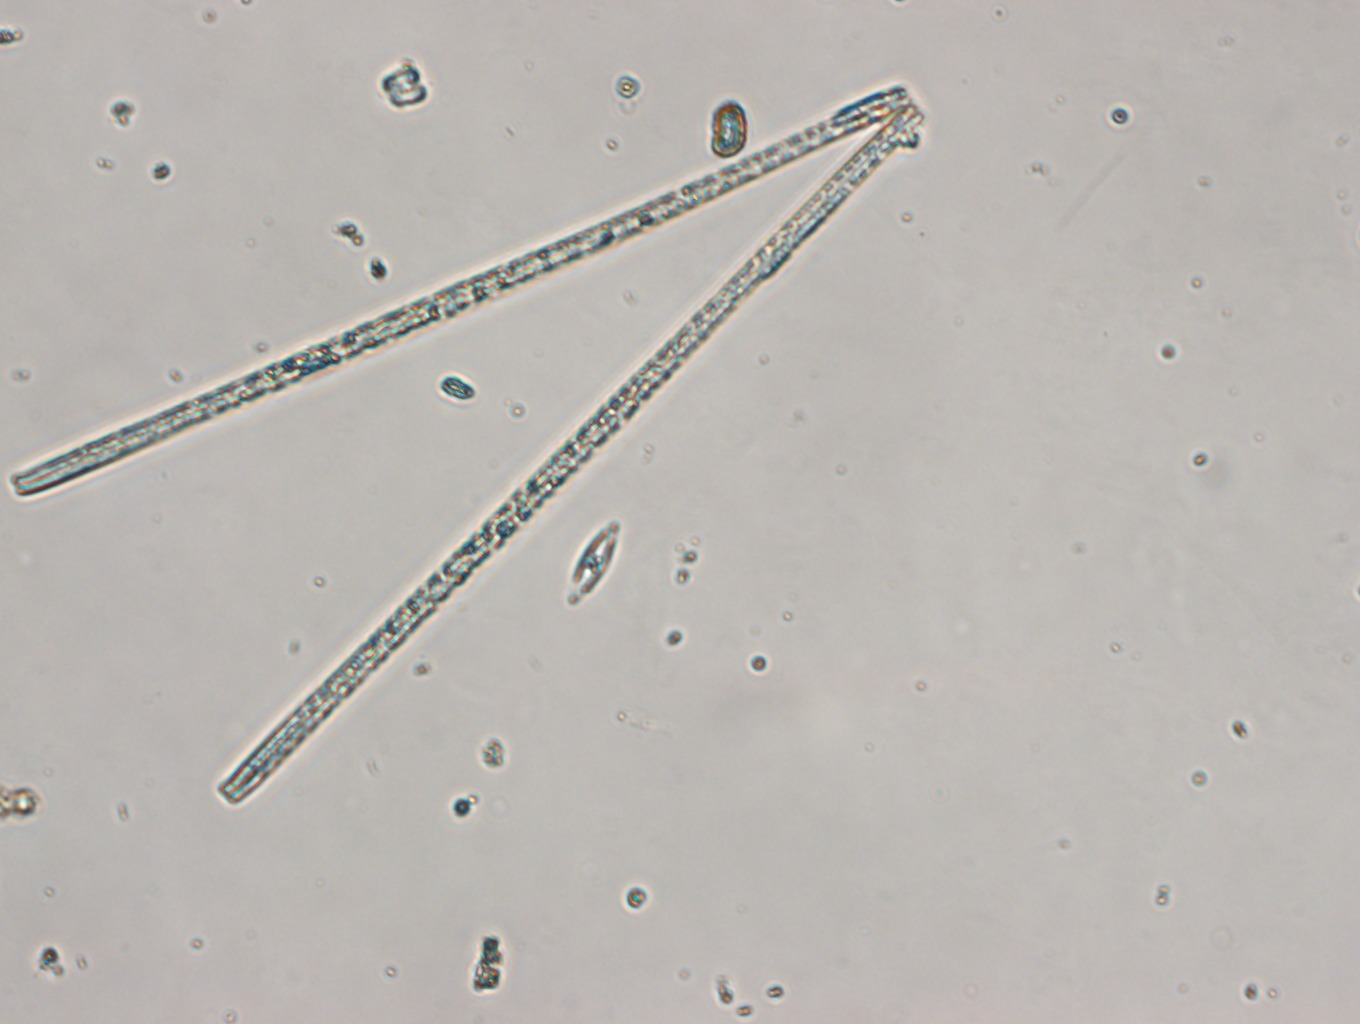navicula: (564, 517, 622, 611)
thalassionema frauenfeldii: (9, 82, 928, 809)
